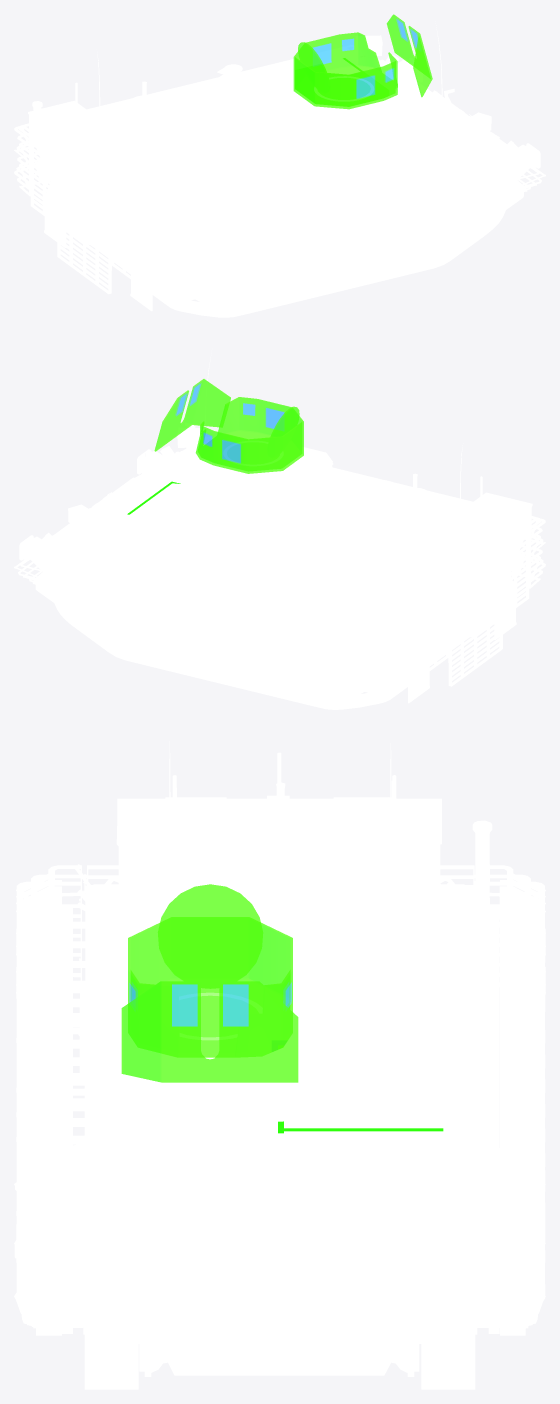
3 views of the same model, one above another, from view 1: azimuth 30°, elevation 25°; view 2: azimuth 150°, elevation 25°; view 3: azimuth 270°, elevation 25° (orthographic). The views are drawn at different scales.
Visible parts, largest first — view 1: 30_1, FV432_Turret_Col, 30_3, FV432_Turret_Col_1; view 2: 30_1, FV432_Turret_Col, 30_2, FV432_Turret_Col_1; view 3: 30_1, FV432_Turret_Col, 30_3, 30_2, FV432_Turret_Col_1.
Boxes of the visible parts, x1,y1,x2,y2 form: 30_1: (14, 21, 545, 312); FV432_Turret_Col: (293, 14, 432, 109); 30_3: (152, 210, 505, 317); FV432_Turret_Col_1: (313, 19, 420, 98); 30_1: (14, 353, 545, 703); FV432_Turret_Col: (154, 379, 303, 473); 30_2: (54, 603, 407, 709); FV432_Turret_Col_1: (175, 383, 284, 463); 30_1: (14, 741, 545, 1376); FV432_Turret_Col: (121, 884, 298, 1082); 30_3: (84, 1049, 138, 1389); 30_2: (421, 1334, 475, 1389); FV432_Turret_Col_1: (129, 982, 291, 1026).
Size of what is drawn, in the model's own units: 6.14 by 3.38 by 3.63.
